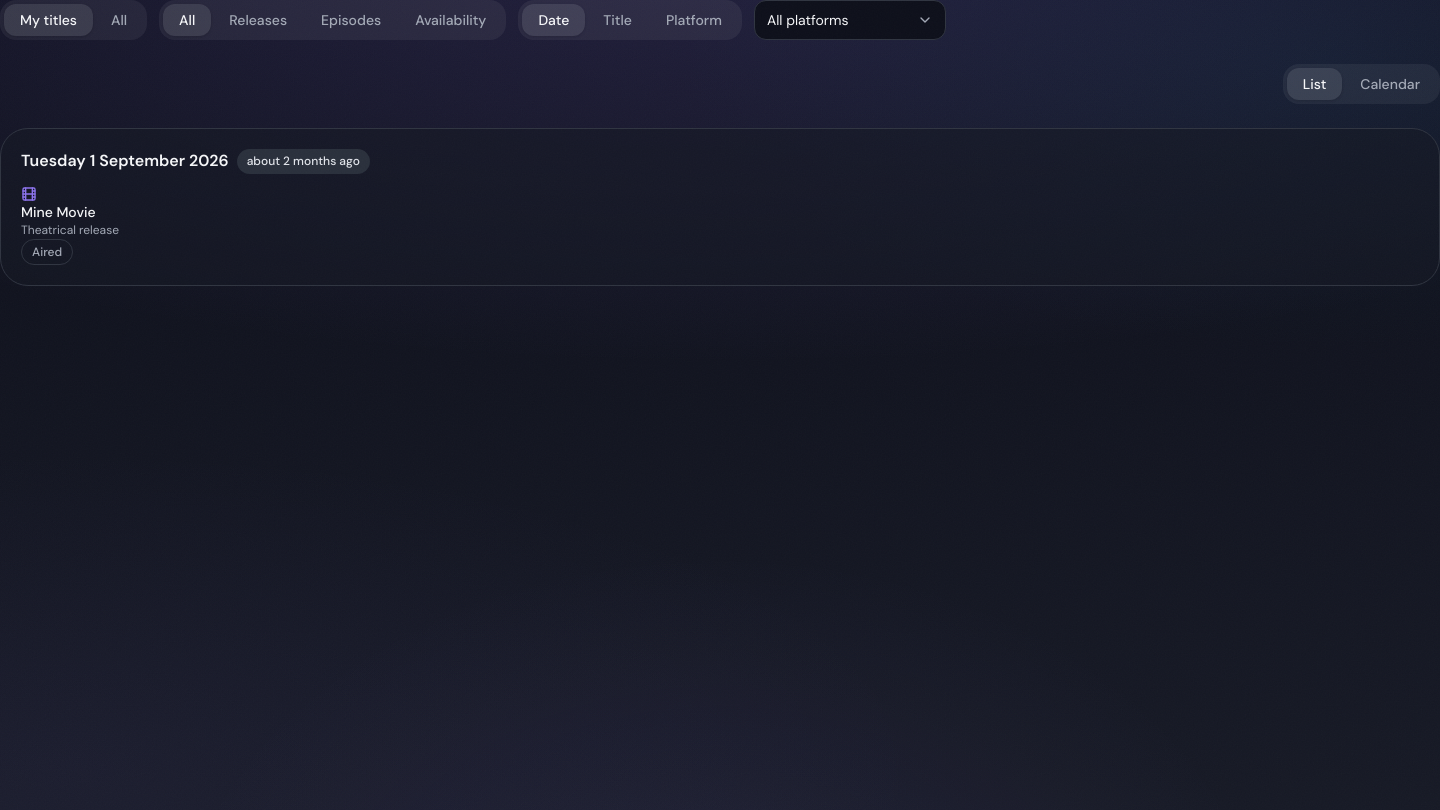
TrackingList › filters between mine and all scope
Check: the text "Mine Movie" is shown, box [21,202,96,222]
Check: the text "Discovery Series" is not shown
Step 1. Click the 1st button "All" → (119, 20), box [95,4,143,36]
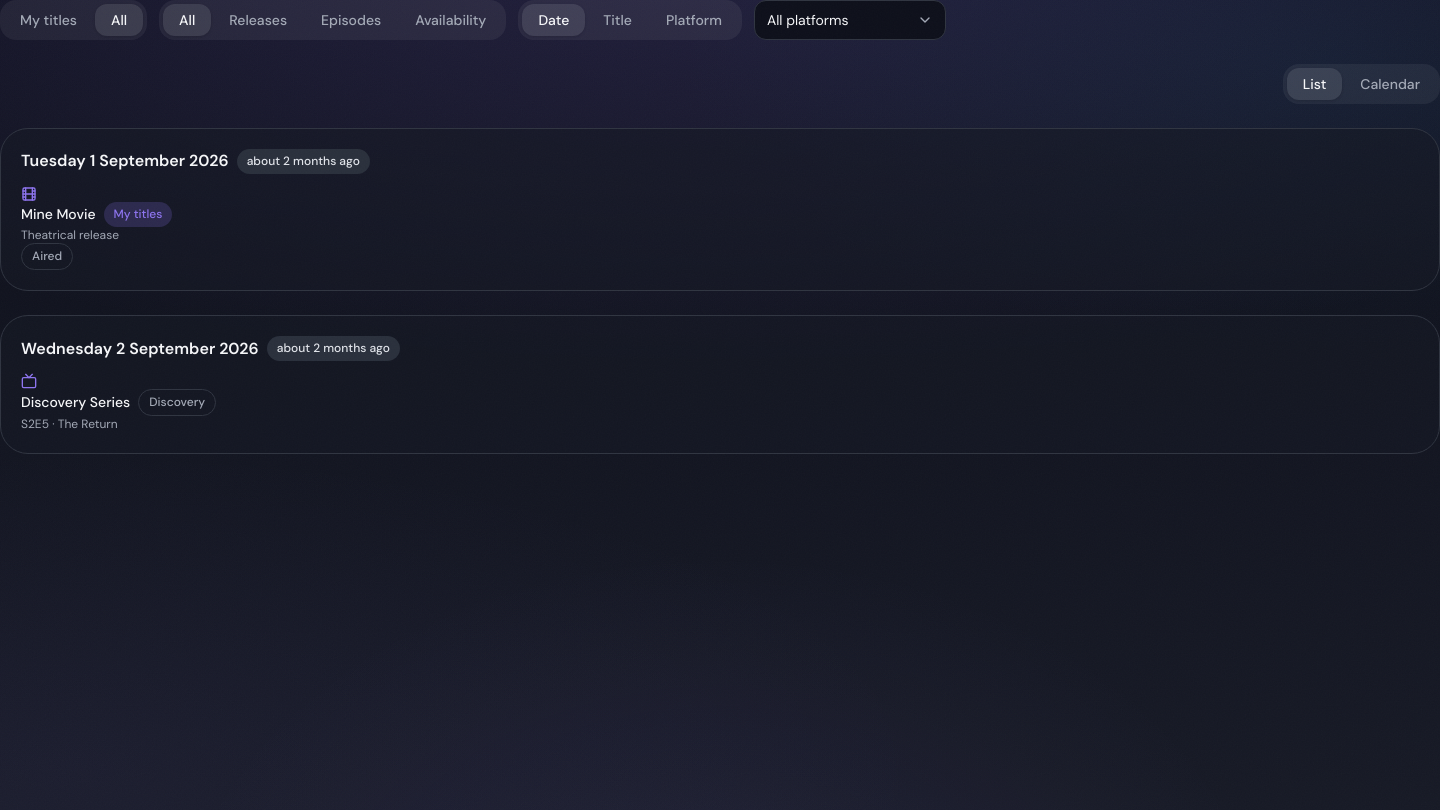
Check: the text "Mine Movie" is shown, box [21,204,96,224]
Check: the text "Discovery Series" is shown, box [21,392,130,412]
